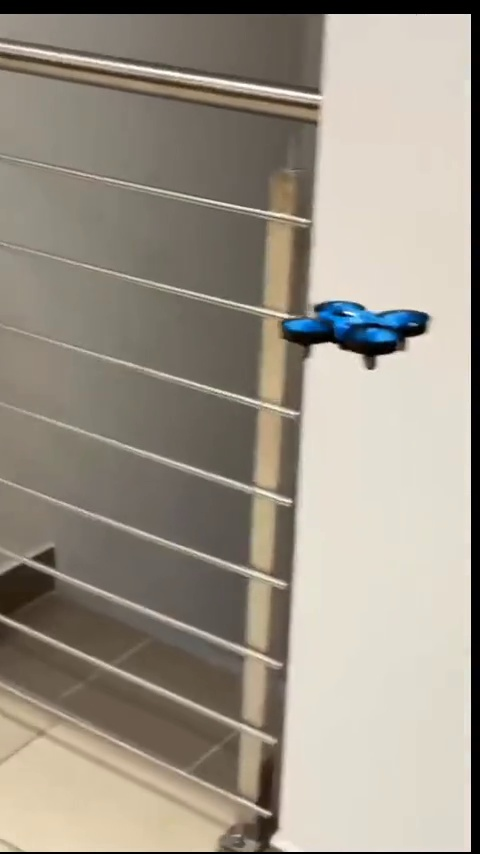drone: (280, 298, 430, 372)
